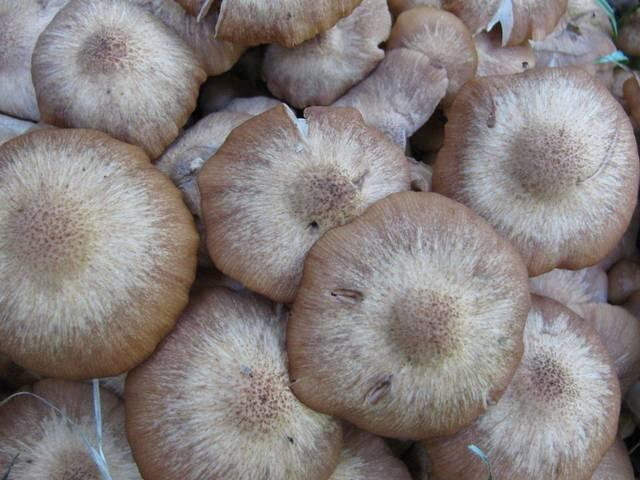Edible Mushroom: (0, 0, 639, 479), (284, 189, 531, 440)
